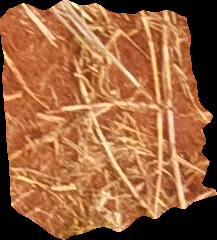soil: (2, 2, 217, 236)
